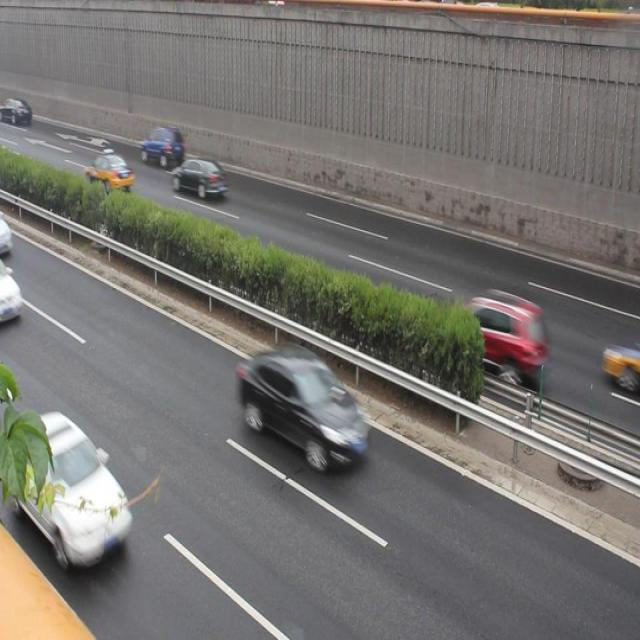car: (14, 411, 130, 564), (234, 345, 369, 467), (430, 290, 548, 380), (170, 157, 229, 199), (84, 152, 133, 196), (138, 126, 182, 167)
